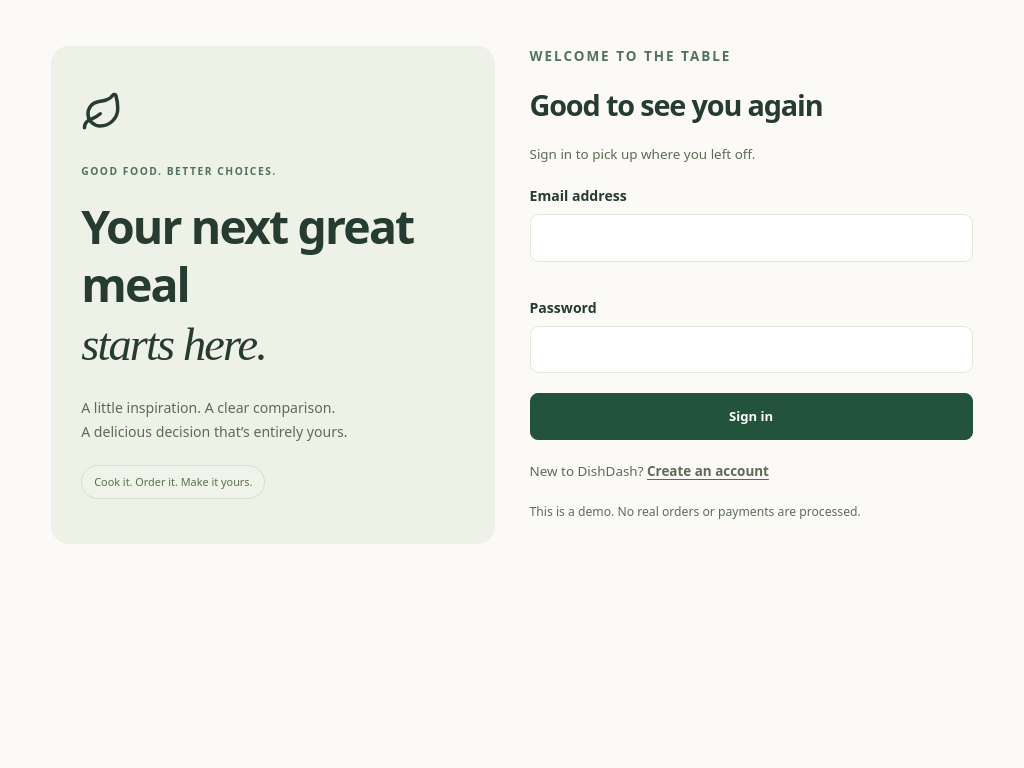
login refusal displays the API error and stays on the form
Type "test@example.test" into the field labelled "Email address" at coordinates (751, 238), box [530, 214, 973, 262]
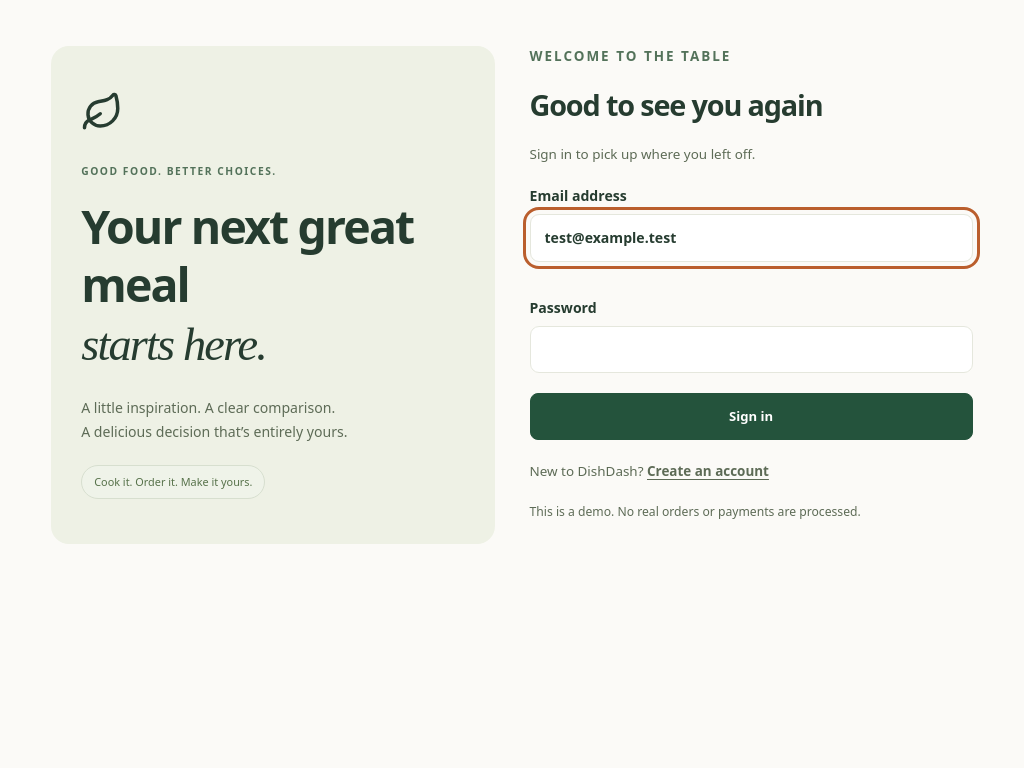
Type "Wrong-Password1!" into the password field labelled "Password" at coordinates (751, 349), box [530, 326, 973, 373]
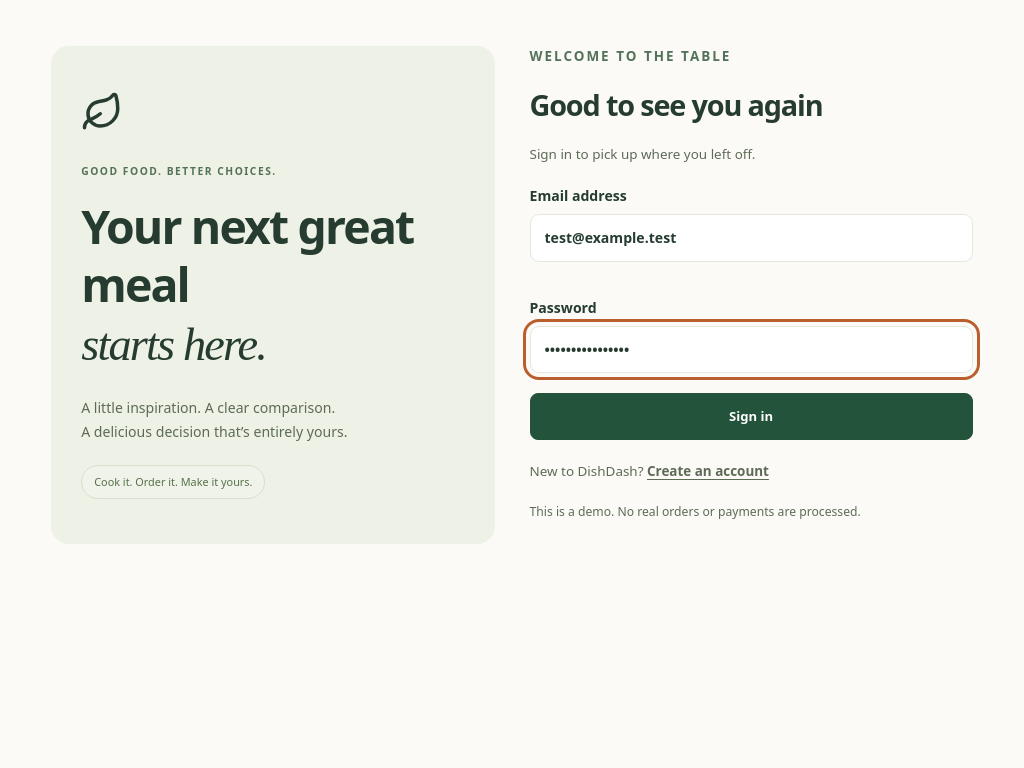
Click the button "Sign in" at coordinates (751, 417), box [530, 393, 973, 440]
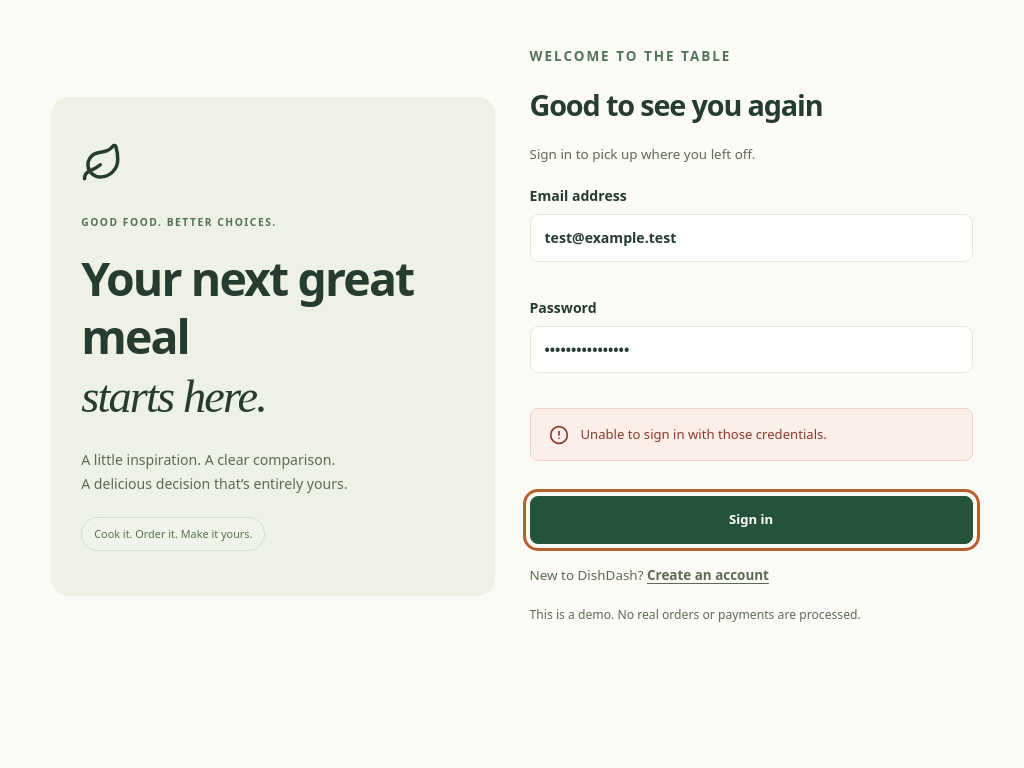
Now the message shows "Unable to sign in", box [580, 425, 827, 443]
